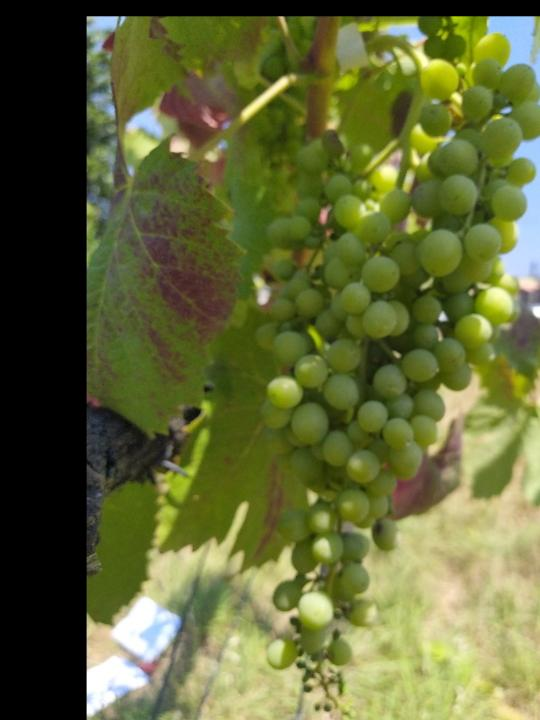grape: (256, 31, 540, 716)
